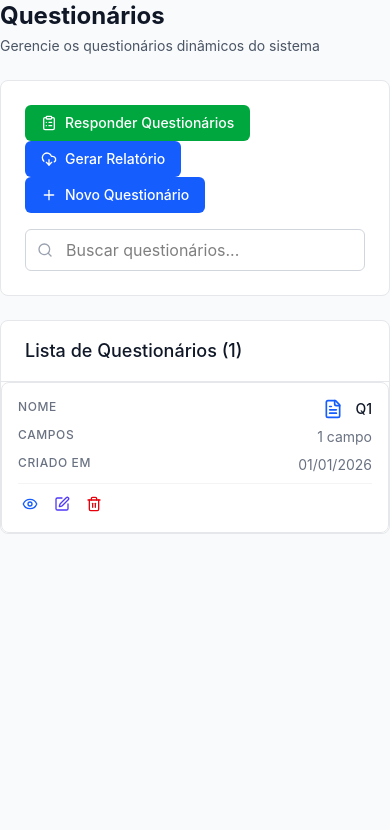
Questionnaires page › opens edit modal
Click the button titled "Editar": (62, 504) [50, 492, 74, 516]
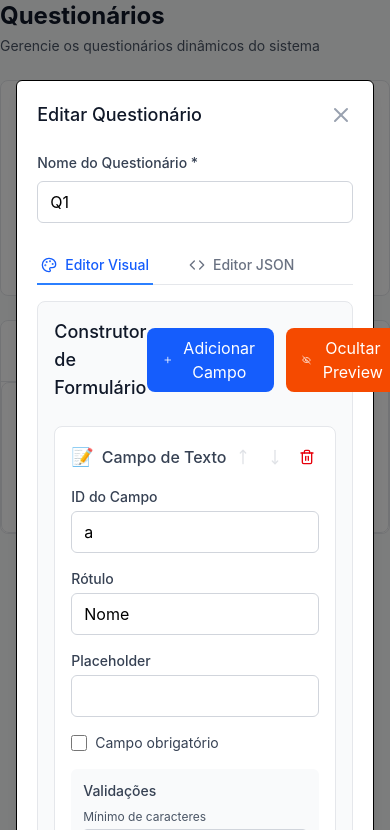
Check: the heading "Editar Questionário" is shown, box [37, 101, 202, 129]
